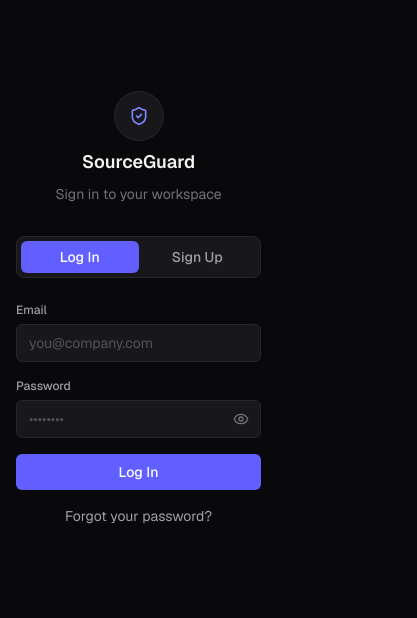
it: LoginPage › tells a new signup to confirm their email and offers a resend
Click the button "Sign Up" at coordinates (197, 257), box [138,241,256,273]
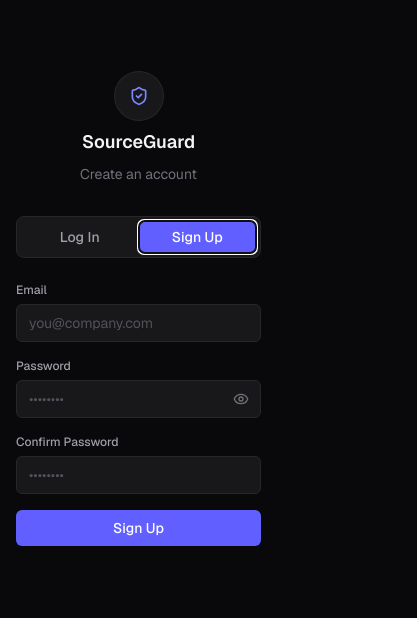
Type "new@example.com" into the field labelled "Email" at coordinates (138, 323), box [16,304,261,342]
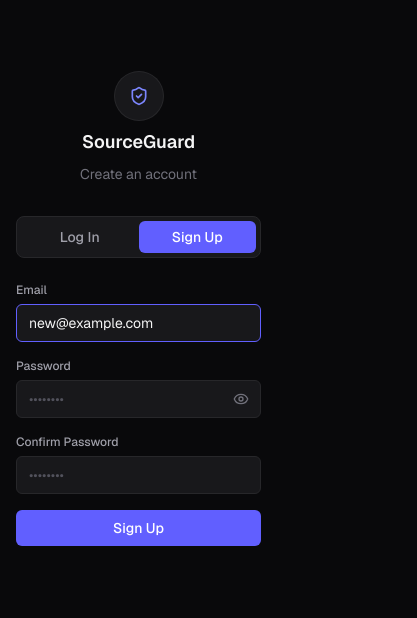
Type "hunter2hunter2" into the password field labelled "Password" at coordinates (138, 399), box [16,380,261,418]
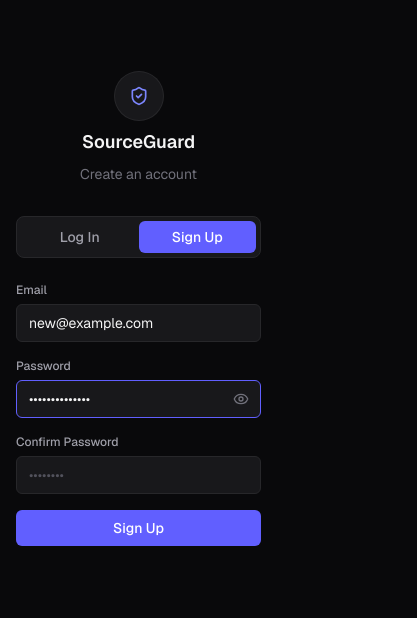
Type "hunter2hunter2" into the password field labelled "Confirm Password" at coordinates (138, 475), box [16,456,261,494]
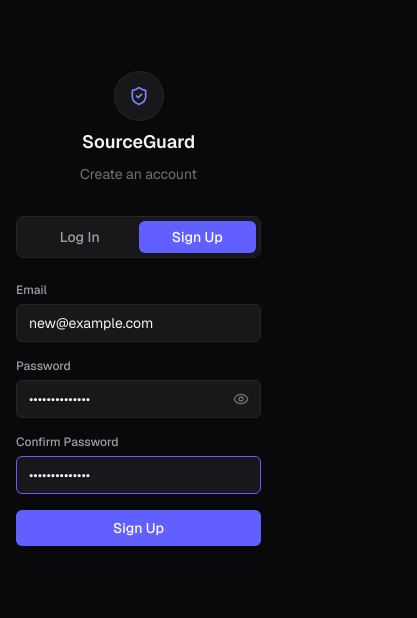
Click the button "Sign Up" below "Confirm Password" at coordinates (138, 528), box [16,510,261,546]
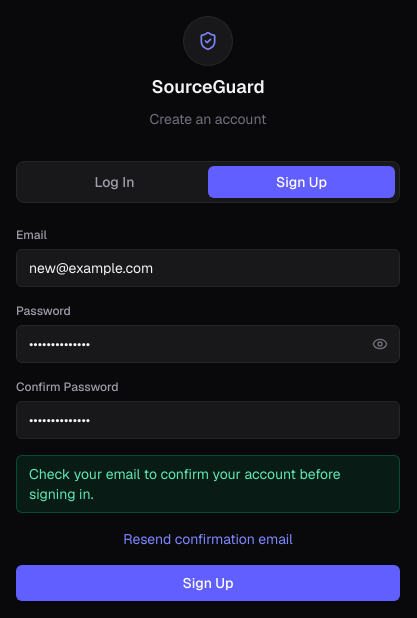
Check: the text "Check your email to confirm your account before signing in." is shown, box [16,455,400,513]
Check: the button "Resend confirmation email" is shown, box [16,529,400,549]
